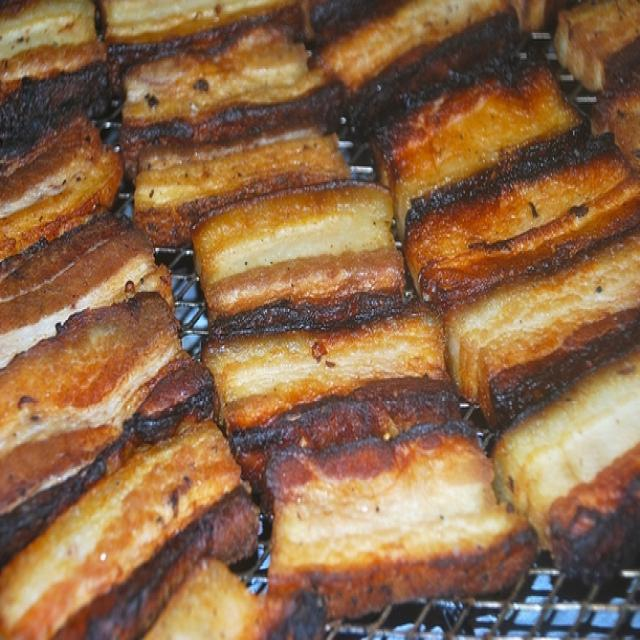牛肉菜式: (22, 36, 617, 618)
